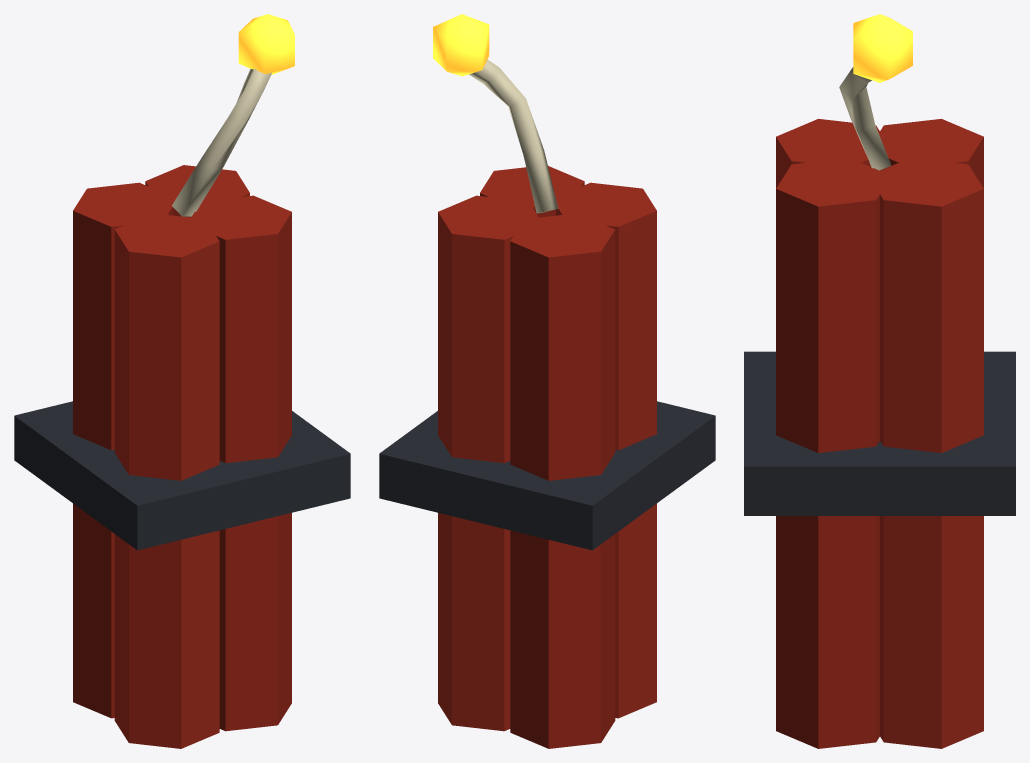
File: dc_dynamite.glb
3 views of the same model, side by side, from view 1: azimuth 30°, elevation 25°; view 2: azimuth 150°, elevation 25°; view 3: azimuth 270°, elevation 25° (orthographic). The views are drawn at different scales.
Visible parts, largest first — view 1: part.dc_dynamite; view 2: part.dc_dynamite; view 3: part.dc_dynamite.
Part boxes in pixels (x1,y1,x2,y2): part.dc_dynamite: (14,14,350,748); part.dc_dynamite: (379,14,715,748); part.dc_dynamite: (744,14,1015,748).
Bounding box in the file's own units: 0.1015 × 0.299 × 0.1.
